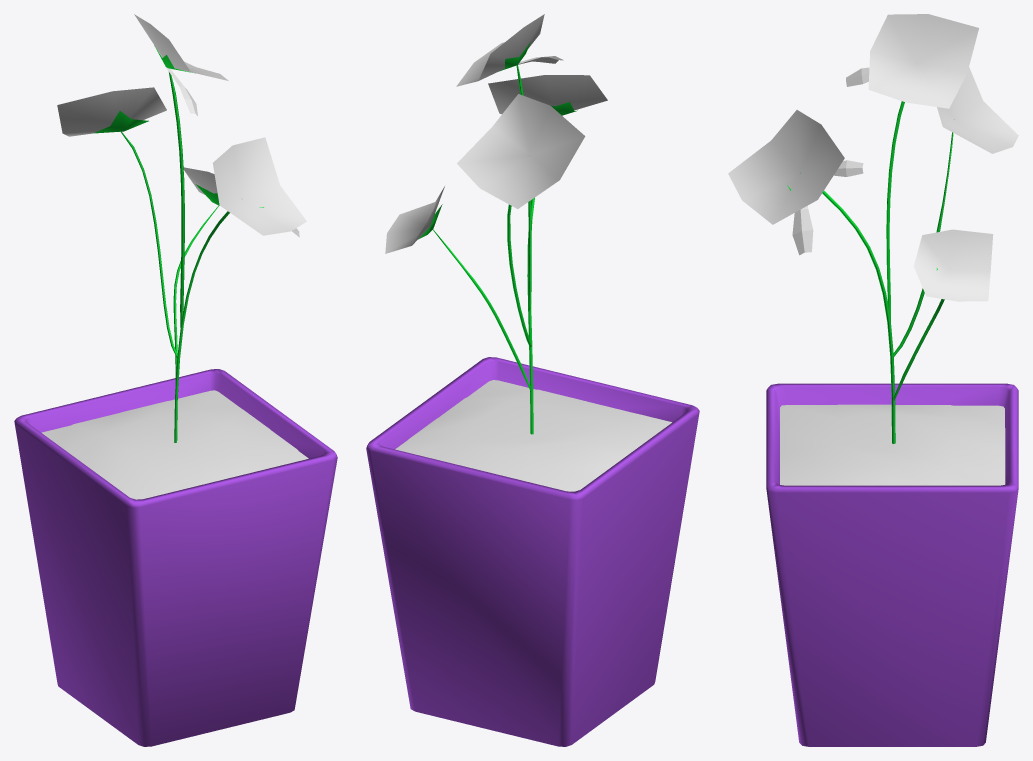
The model's file is SM_Hallway_Plant_01.fbx.
3 views of the same model, side by side, from view 1: azimuth 30°, elevation 25°; view 2: azimuth 150°, elevation 25°; view 3: azimuth 270°, elevation 25° (orthographic). The views are drawn at different scales.
Visible parts, largest first — view 1: Flower.001; view 2: Flower.001; view 3: Flower.001.
Part boxes in pixels (x1,y1,x2,y2): Flower.001: (14,14,337,746); Flower.001: (366,14,699,746); Flower.001: (728,14,1018,746).
Size of what is drawn, in the model's own units: 28.88 by 83.74 by 32.03.
